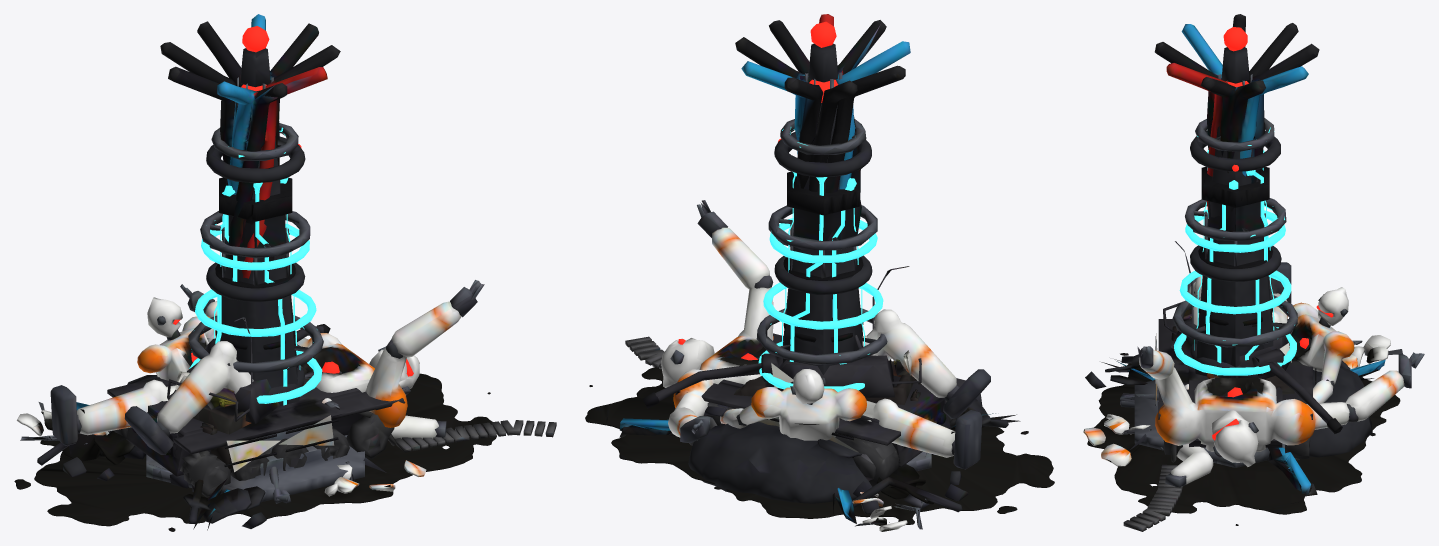
Rendered from datacenter_decor_core.glb.
3 views of the same model, side by side, from view 1: azimuth 30°, elevation 25°; view 2: azimuth 150°, elevation 25°; view 3: azimuth 270°, elevation 25° (orthographic). The views are drawn at different scales.
Parts seen in each view (by area): view 1: Giant, Tank, DataSpire, CableColumn, Pillar, Wreck_Bot, Wreck_Car, Pillar_B; view 2: Giant, Wreck_Bot, DataSpire, Tank, CableColumn, Pillar, Pillar_B, Wreck_Car; view 3: Giant, DataSpire, CableColumn, Wreck_Bot, Tank, Pillar, Pillar_B, Wreck_Car.
Part boxes in pixels (bbox=[...]): Giant: bbox=[14, 280, 496, 531]; Tank: bbox=[37, 317, 556, 497]; DataSpire: bbox=[76, 26, 364, 530]; CableColumn: bbox=[160, 14, 340, 395]; Pillar: bbox=[189, 178, 322, 503]; Wreck_Bot: bbox=[127, 297, 446, 440]; Wreck_Car: bbox=[170, 378, 309, 528]; Pillar_B: bbox=[215, 177, 295, 503]; Giant: bbox=[585, 200, 1054, 531]; Wreck_Bot: bbox=[688, 369, 872, 503]; DataSpire: bbox=[619, 21, 1020, 523]; Tank: bbox=[625, 266, 968, 514]; CableColumn: bbox=[735, 14, 910, 331]; Pillar: bbox=[758, 171, 883, 391]; Pillar_B: bbox=[783, 173, 863, 342]; Wreck_Car: bbox=[734, 335, 1008, 454]; Giant: bbox=[1083, 262, 1424, 525]; DataSpire: bbox=[1101, 27, 1385, 496]; CableColumn: bbox=[1154, 14, 1319, 367]; Wreck_Bot: bbox=[1165, 287, 1372, 487]; Tank: bbox=[1123, 241, 1350, 531]; Pillar: bbox=[1120, 167, 1296, 458]; Pillar_B: bbox=[1120, 167, 1299, 461]; Wreck_Car: bbox=[1085, 326, 1294, 396].
Size of the model in its own units: 5.37 by 4.65 by 3.66.
Materials: 4 (1 with a texture image).
